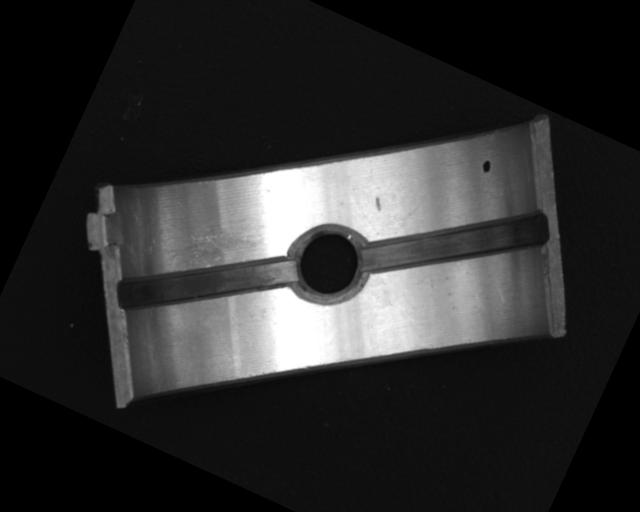blot: (479, 158, 493, 175)
bruise: (369, 195, 385, 212)
gap: (360, 156, 549, 330), (112, 201, 300, 370)
hole: (277, 212, 380, 317)
scratch: (160, 202, 268, 298)
